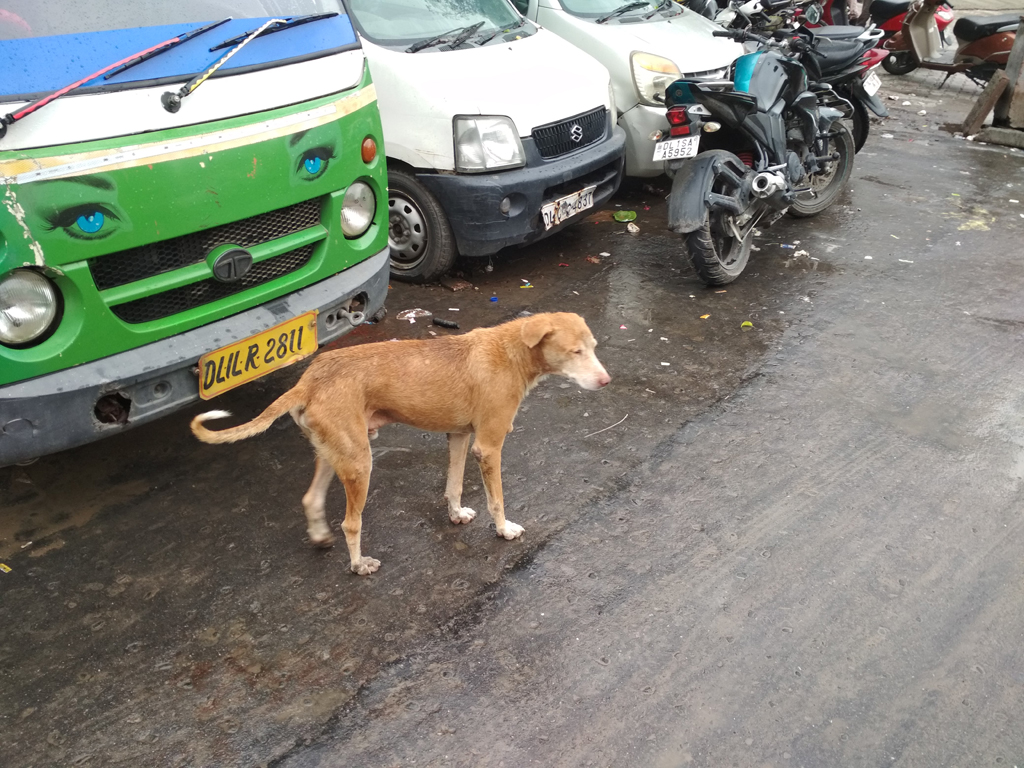dog: (191, 312, 612, 575)
